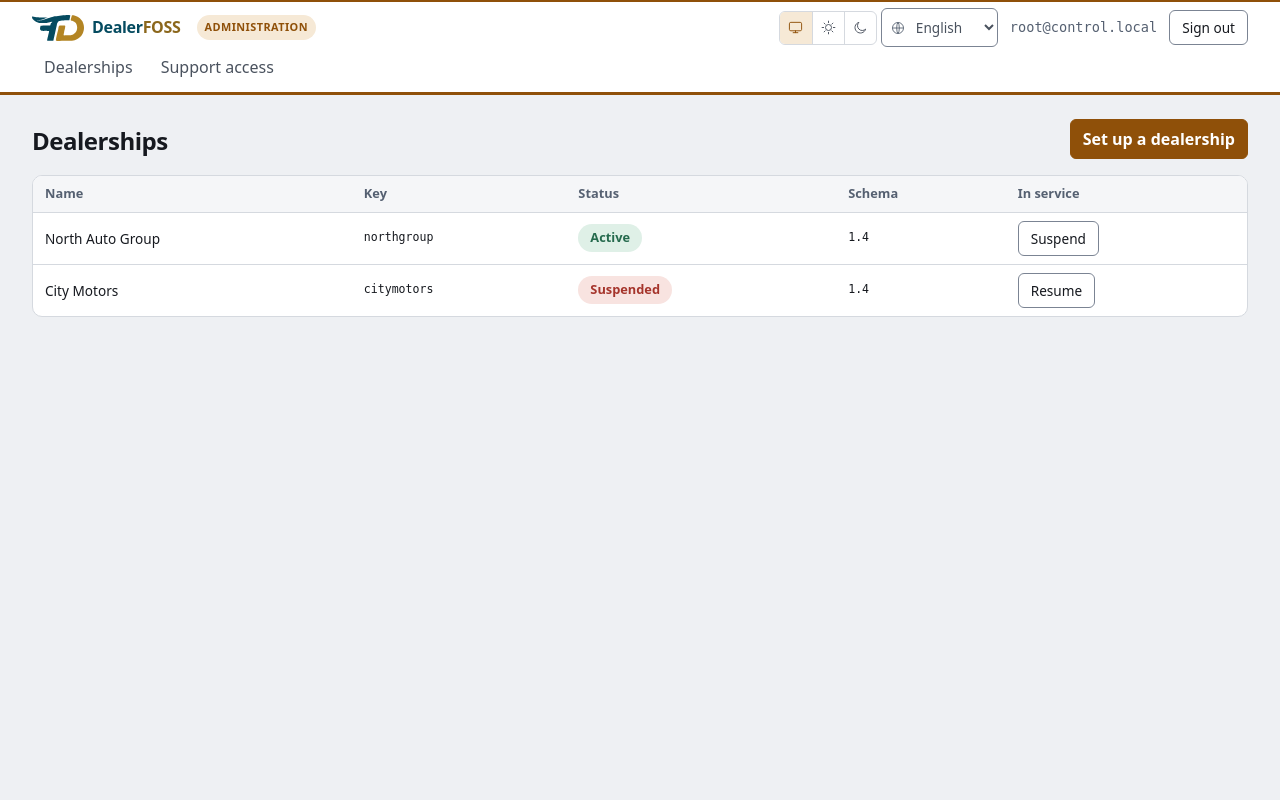
Test: the administration console › asks before taking a dealership out of service
Click the button "Suspend".
click(1058, 238)  # box [1018,221,1099,256]
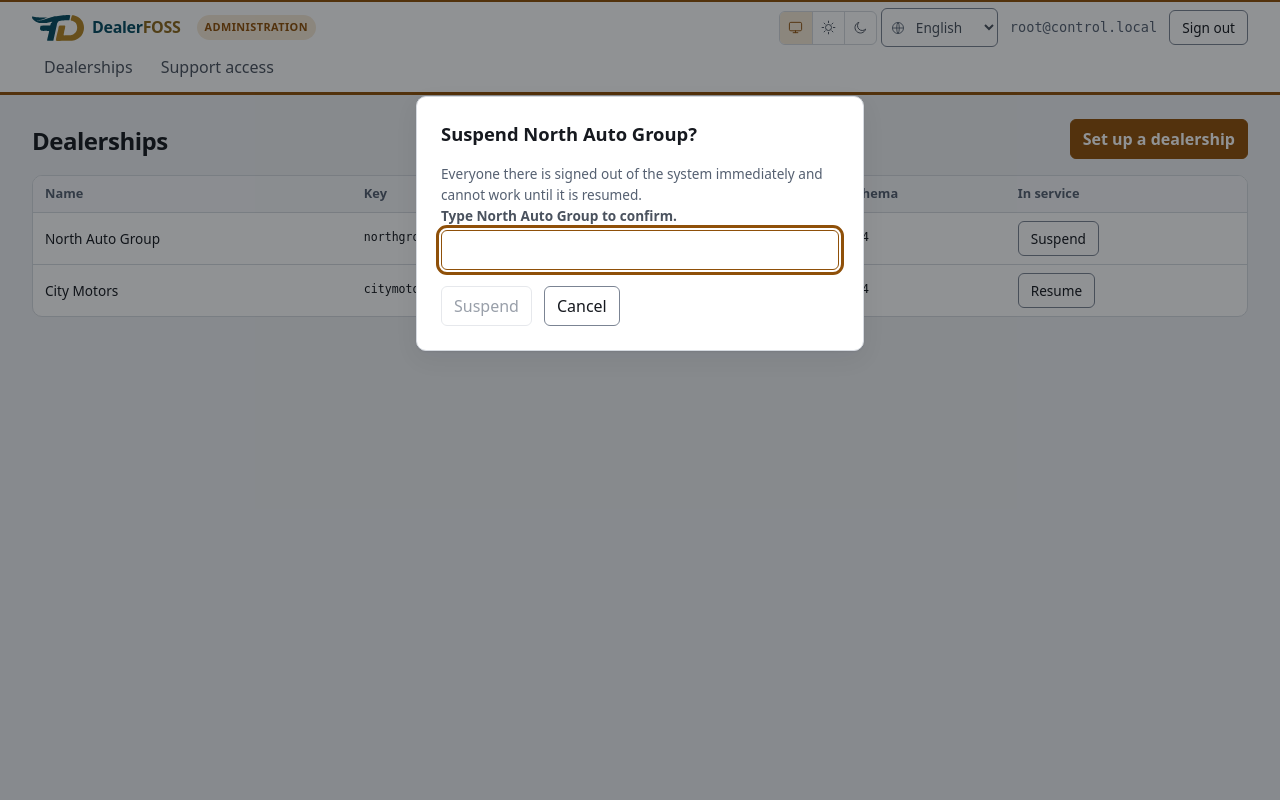
Now the heading "Suspend North Auto Group?" is shown, box [441,121,697,146]
Click the button "Cancel".
click(582, 306)  # box [544,286,620,326]
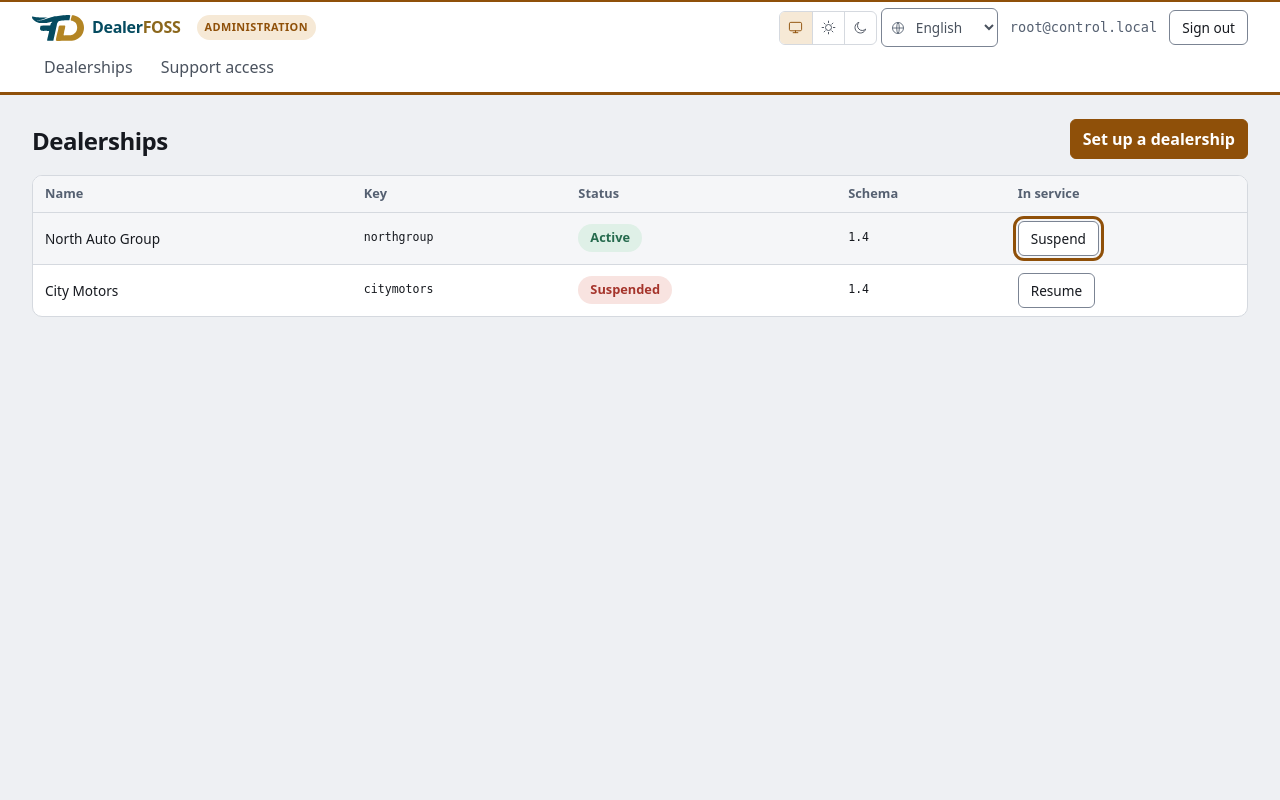
Now the dialog is gone
